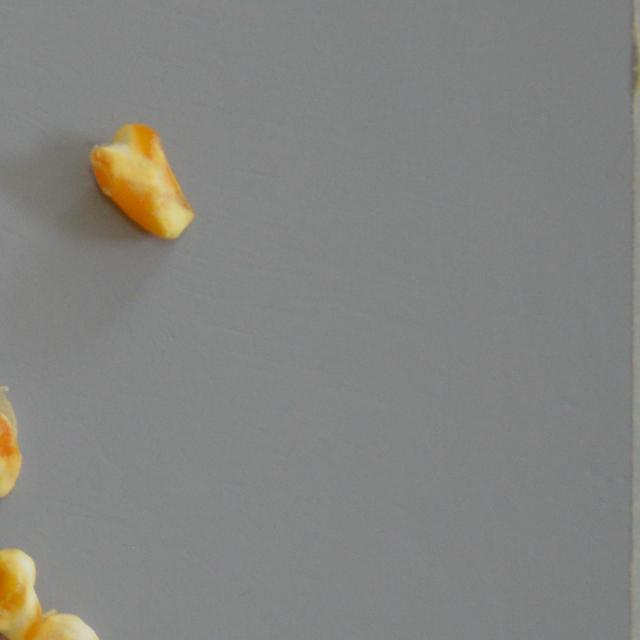pelicula: (85, 120, 196, 242), (0, 546, 42, 640), (0, 384, 27, 503), (24, 612, 104, 640)
